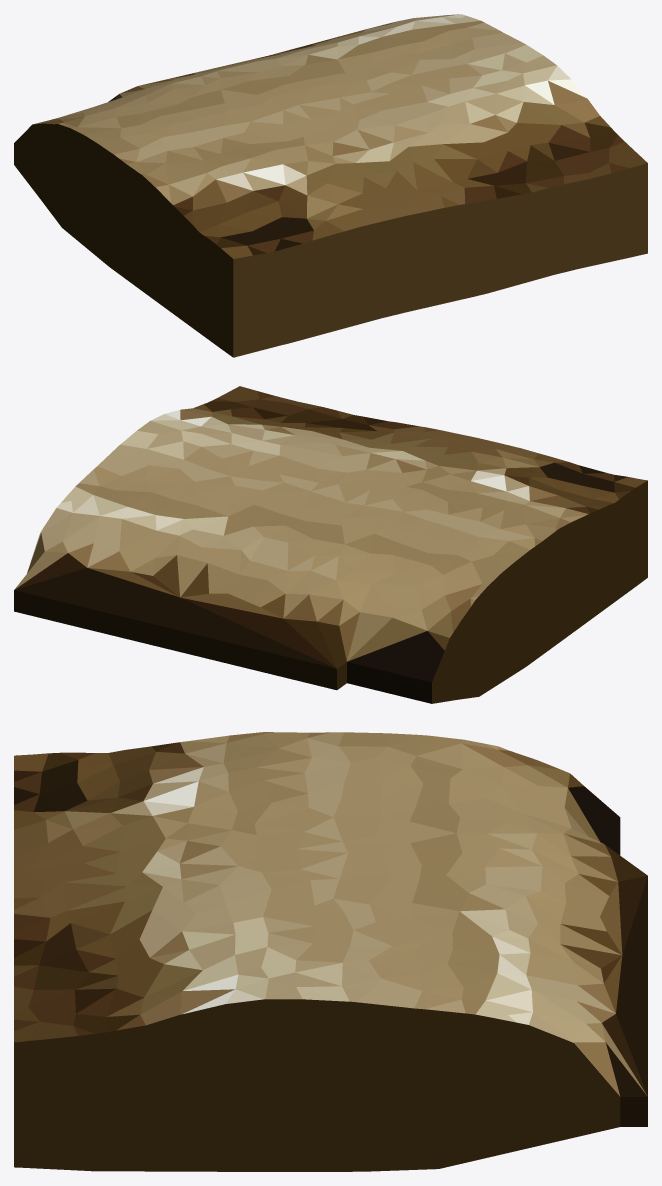
The model's file is newsh3-168.glb.
3 renders of one model, top to bottom at view 1: azimuth 30°, elevation 25°; view 2: azimuth 150°, elevation 25°; view 3: azimuth 270°, elevation 25°, orthographic. The views are drawn at different scales.
Parts seen in each view (by area): view 1: newsh3-168; view 2: newsh3-168; view 3: newsh3-168.
Part boxes in pixels (x1=…): newsh3-168: x1=14, y1=14, x2=647, y2=357; newsh3-168: x1=14, y1=386, x2=647, y2=703; newsh3-168: x1=14, y1=732, x2=647, y2=1171.
Size of the model in its own units: 2 by 0.576 by 1.92.
